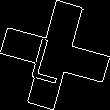L_N: (33, 27, 77, 83)
